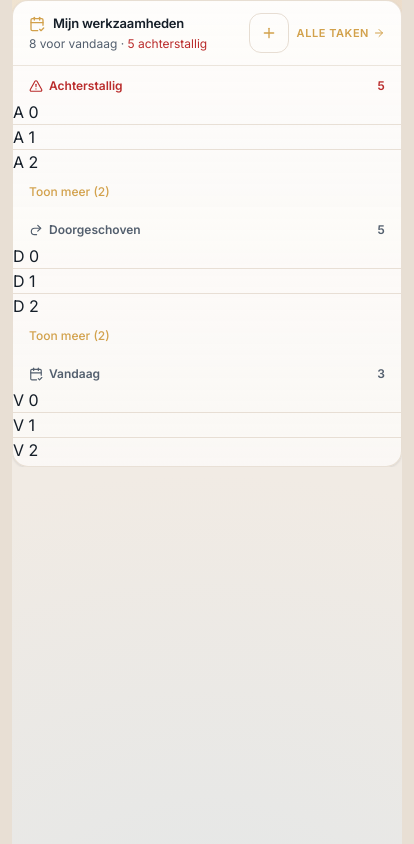
Scenario: DashboardWerklijst › elke groep klapt los uit; groepen tot 3 taken hebben geen Toon meer
Click the button with test id "werklijst-toon-meer" below "A 2" at (69, 192), box [13,174,401,210]
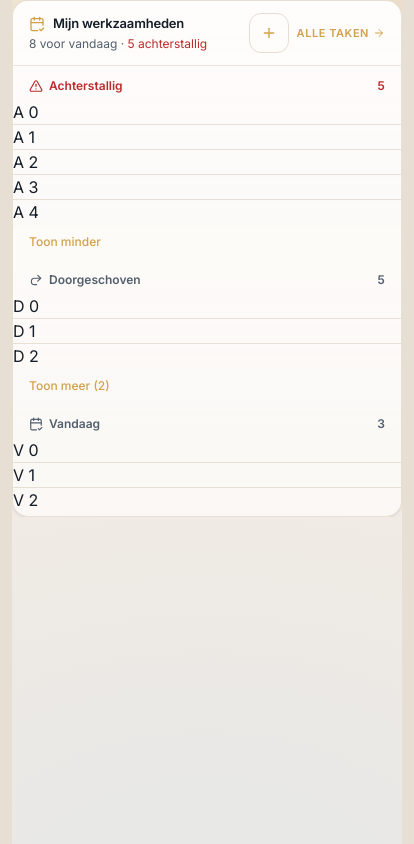
Now the button with test id "werklijst-toon-meer" is expanded, box [13,224,401,260]
